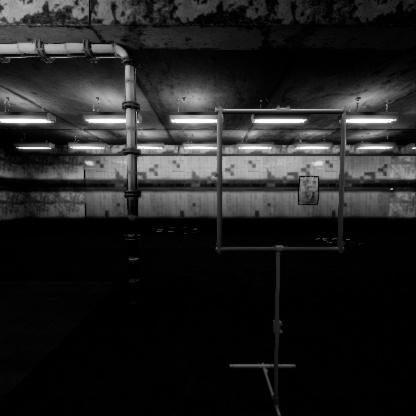gate: (217, 162, 358, 307)
